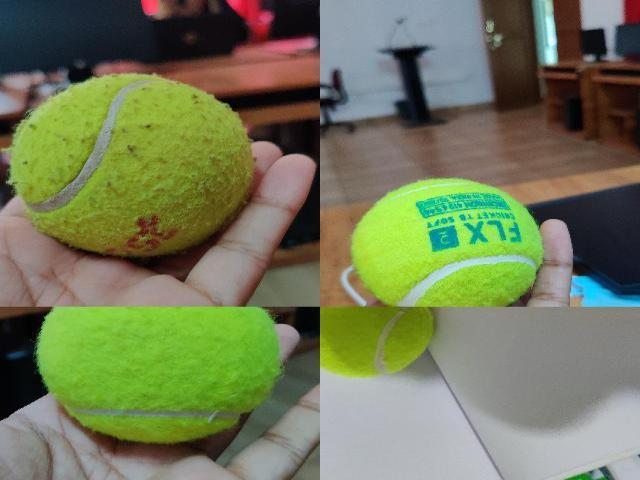tennis-ball: (7, 73, 255, 257), (36, 307, 281, 444), (351, 178, 544, 306), (320, 307, 435, 380)
